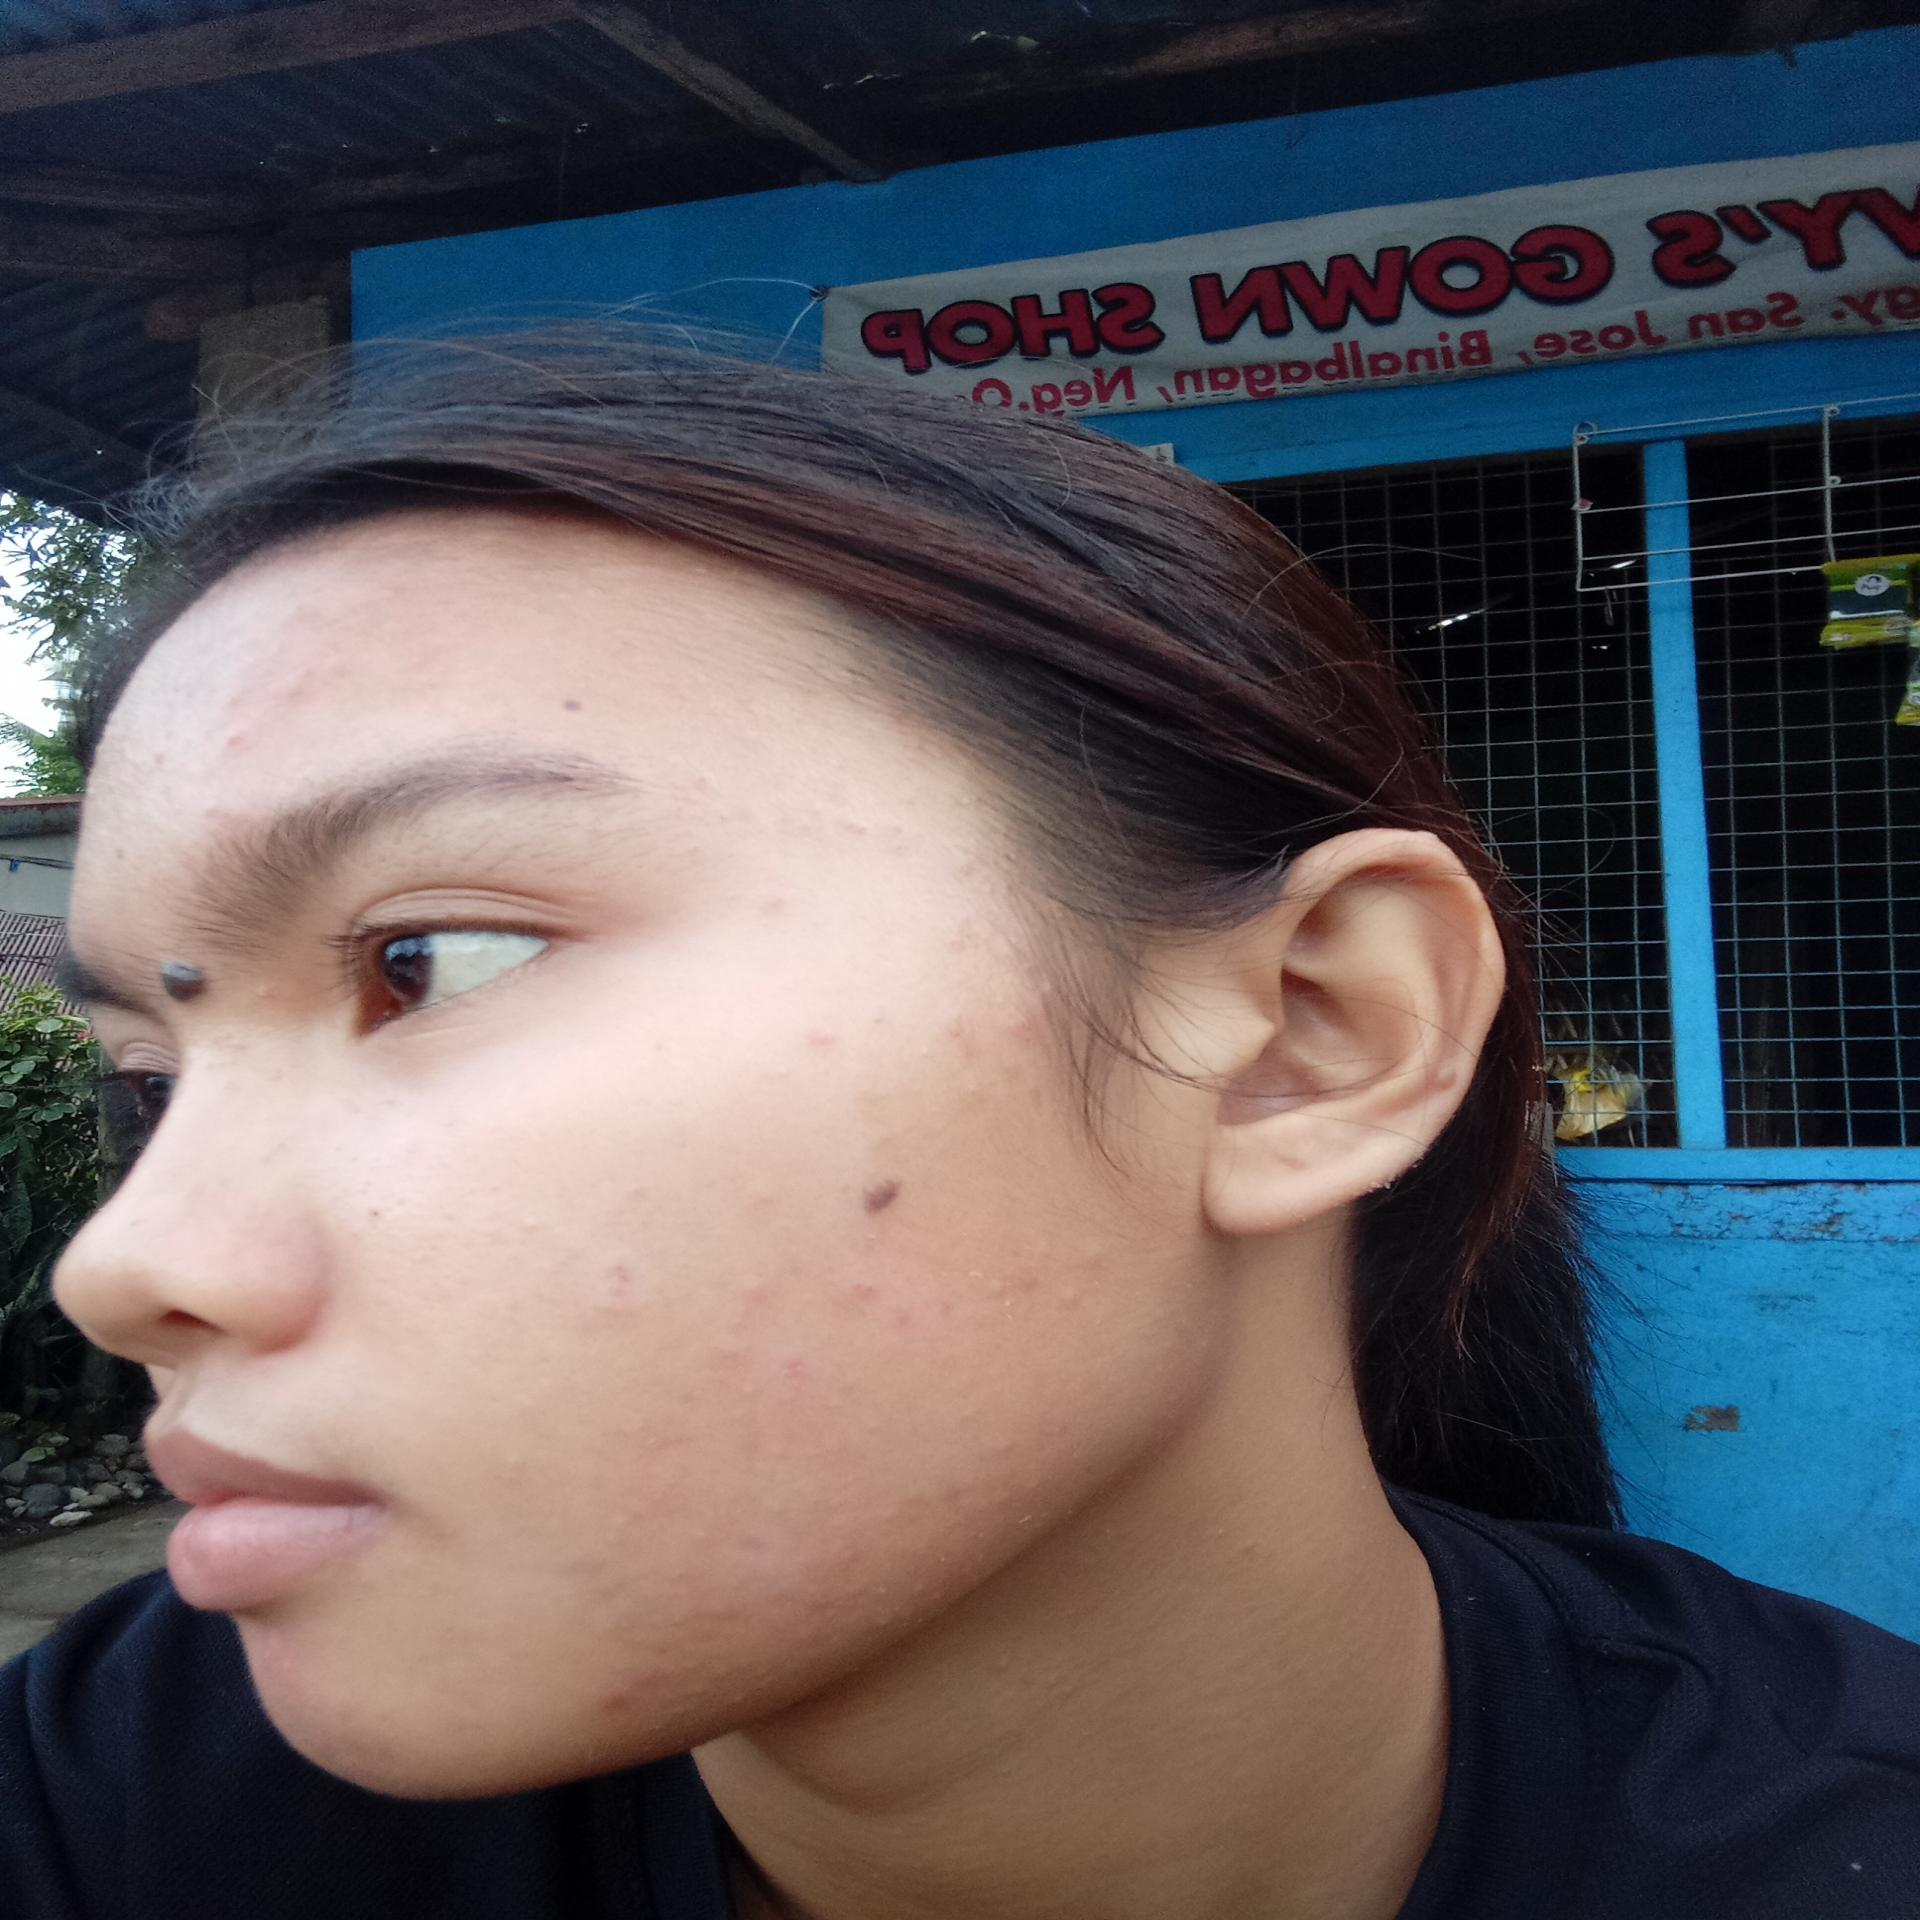Acne: (202, 651, 348, 765), (698, 1285, 816, 1401), (782, 1547, 914, 1644), (856, 1463, 1039, 1524), (593, 1663, 682, 1732), (960, 1261, 1095, 1305), (911, 1000, 1050, 1043), (844, 1269, 928, 1338), (556, 1545, 649, 1607), (561, 1241, 642, 1303), (768, 1009, 837, 1051), (251, 1625, 299, 1681)
Blackhead: (301, 1139, 422, 1234)
